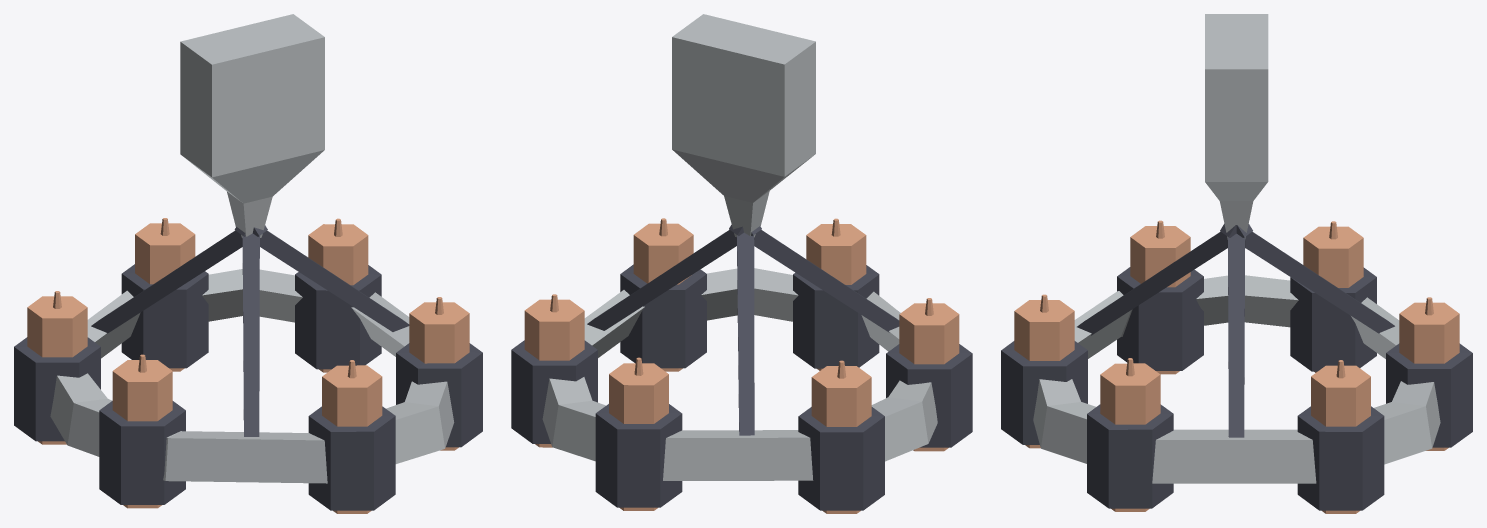
File: roof candles.fbx
The picture shows the model from 3 angles, left to right: view 1: azimuth 30°, elevation 25°; view 2: azimuth 150°, elevation 25°; view 3: azimuth 270°, elevation 25°; orthographic projection.
Parts seen in each view (by area): view 1: Cube.011; view 2: Cube.011; view 3: Cube.011.
Boxes of the visible parts, x1,y1,x2,y2 form: Cube.011: [14, 14, 482, 513]; Cube.011: [511, 14, 972, 513]; Cube.011: [1001, 14, 1472, 513].
Bounding box in the file's own units: 230 × 244 × 265.
